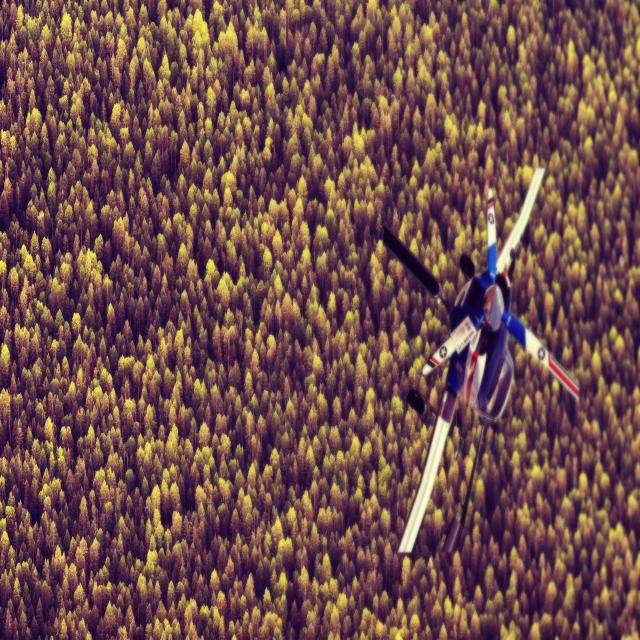airplane: (381, 166, 580, 556)
